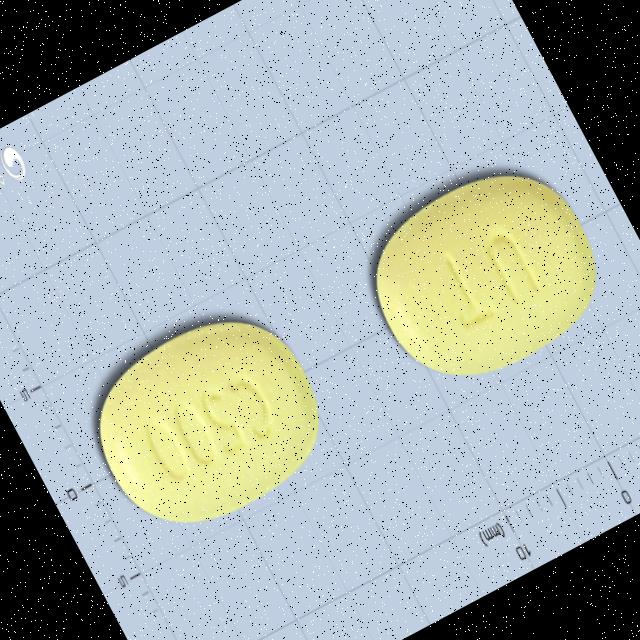Claxin: (64, 287, 350, 560), (341, 138, 626, 411)
